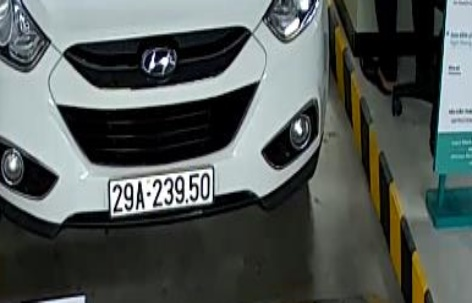plate: (104, 174, 215, 213)
